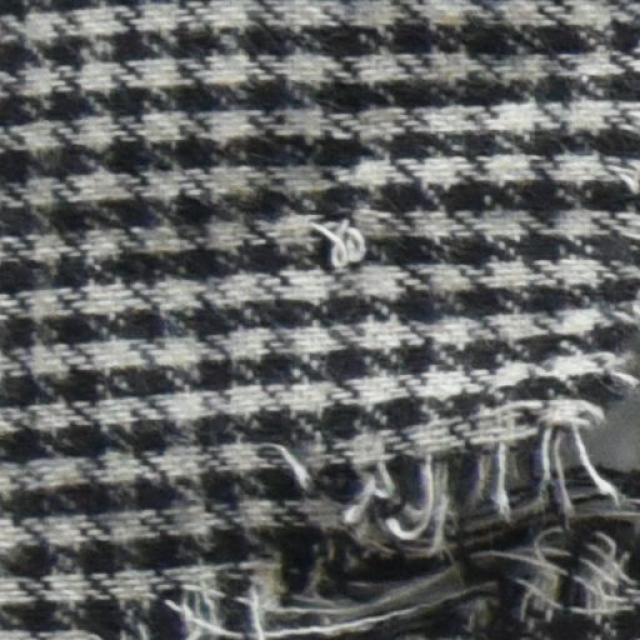Hole: (581, 337, 639, 473)
Snag: (145, 361, 639, 639), (312, 205, 366, 277)
